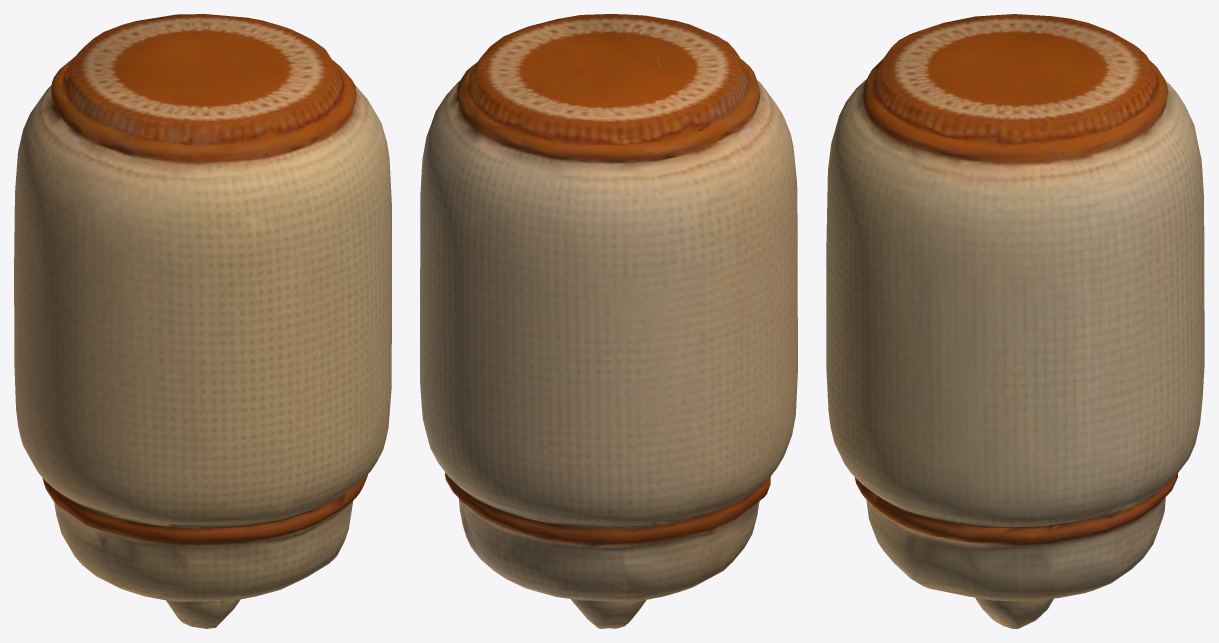
File: speaker.glb
3 renders of one model, left to right at view 1: azimuth 30°, elevation 25°; view 2: azimuth 150°, elevation 25°; view 3: azimuth 270°, elevation 25°, orthographic.
Bounding box in the file's own units: 1.23 × 2 × 1.23.
Materials: 1 (1 with a texture image).
